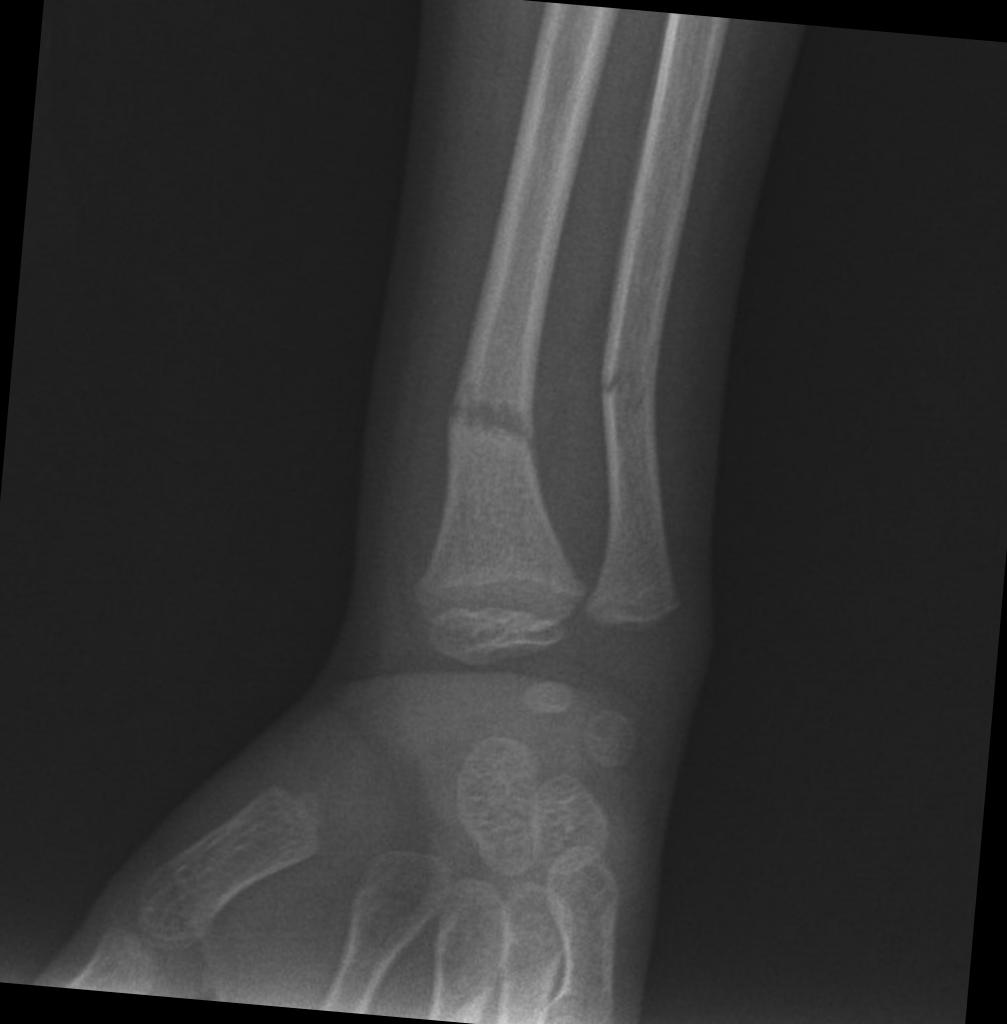angle: (444, 395, 543, 459), (597, 367, 658, 415)
